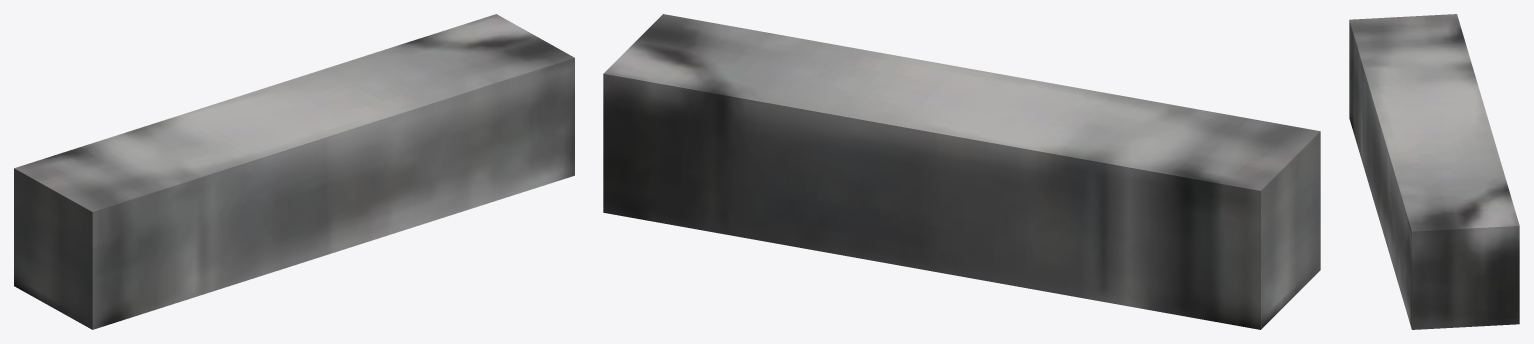
File: frame__wheel_fork_strut_0.glb
The picture shows the model from 3 angles, left to right: view 1: azimuth 30°, elevation 25°; view 2: azimuth 150°, elevation 25°; view 3: azimuth 270°, elevation 25°; orthographic projection. The views are drawn at different scales.
Visible parts, largest first — view 1: world; view 2: world; view 3: world.
Part boxes in pixels (<box>): world: <box>14,14,574,329</box>; world: <box>603,14,1320,329</box>; world: <box>1349,14,1519,329</box>.
Size of the model in its own units: 0.1232 by 0.026 by 0.0408.
1 material, 1 textured.
